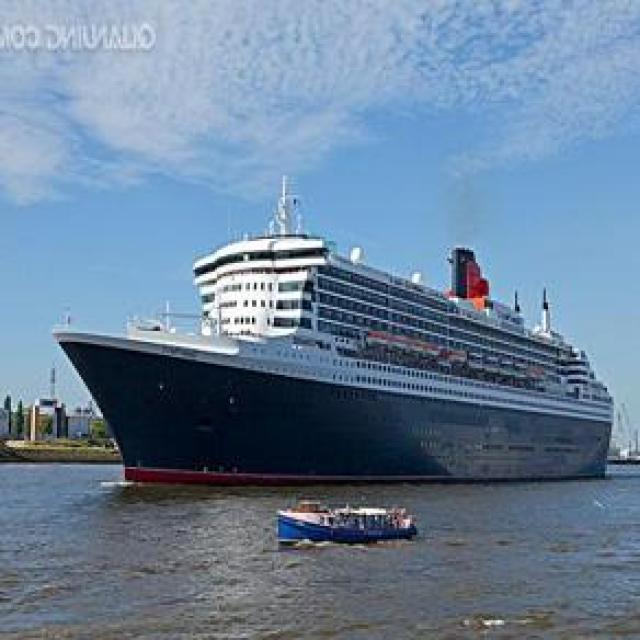houseboat: (274, 497, 422, 546)
passenger ship: (61, 201, 618, 509)
